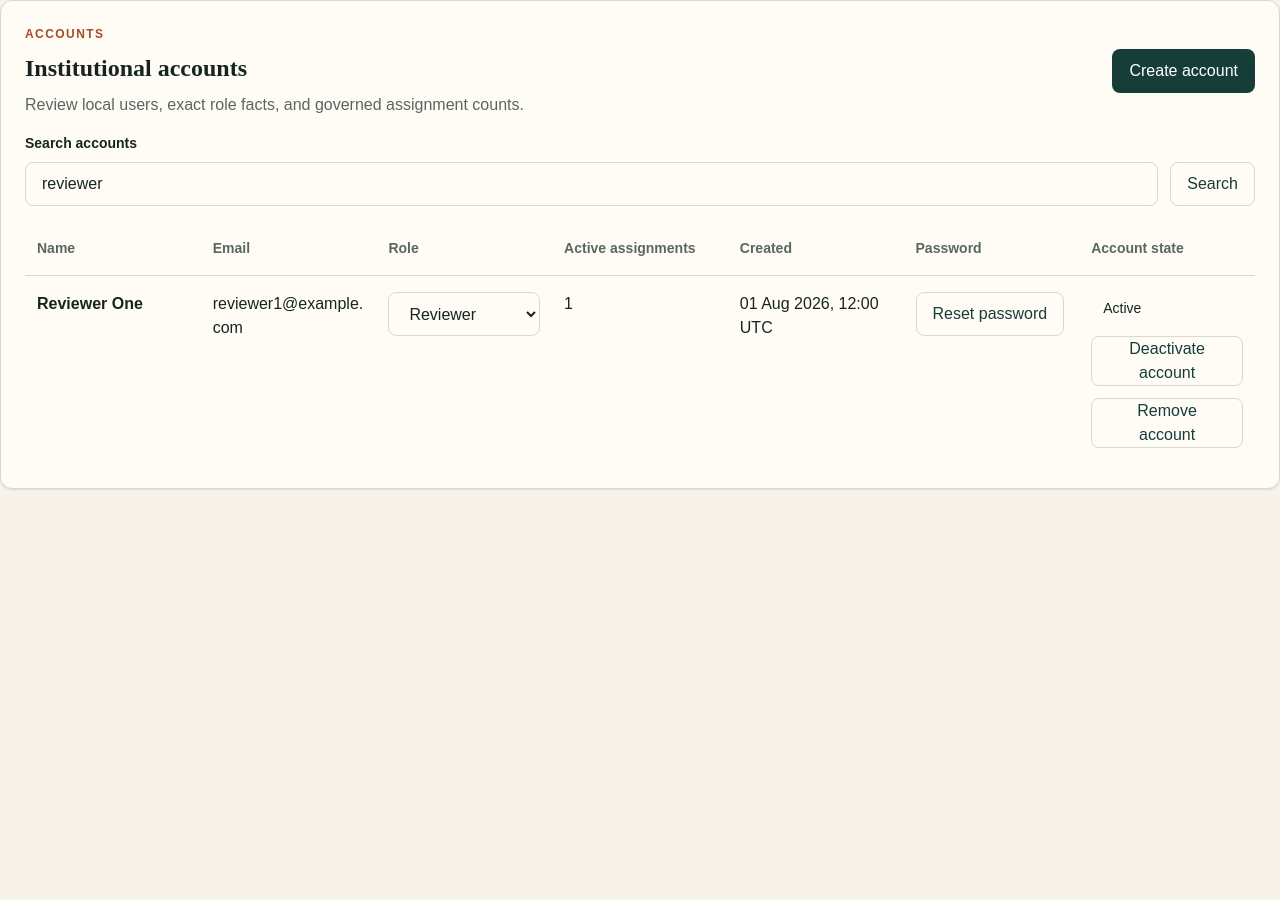
it: AccountsSection › uses localUserSchema validation with an error summary and focus
Click the button "Create account" at (1184, 71), box [1112,49,1255,93]
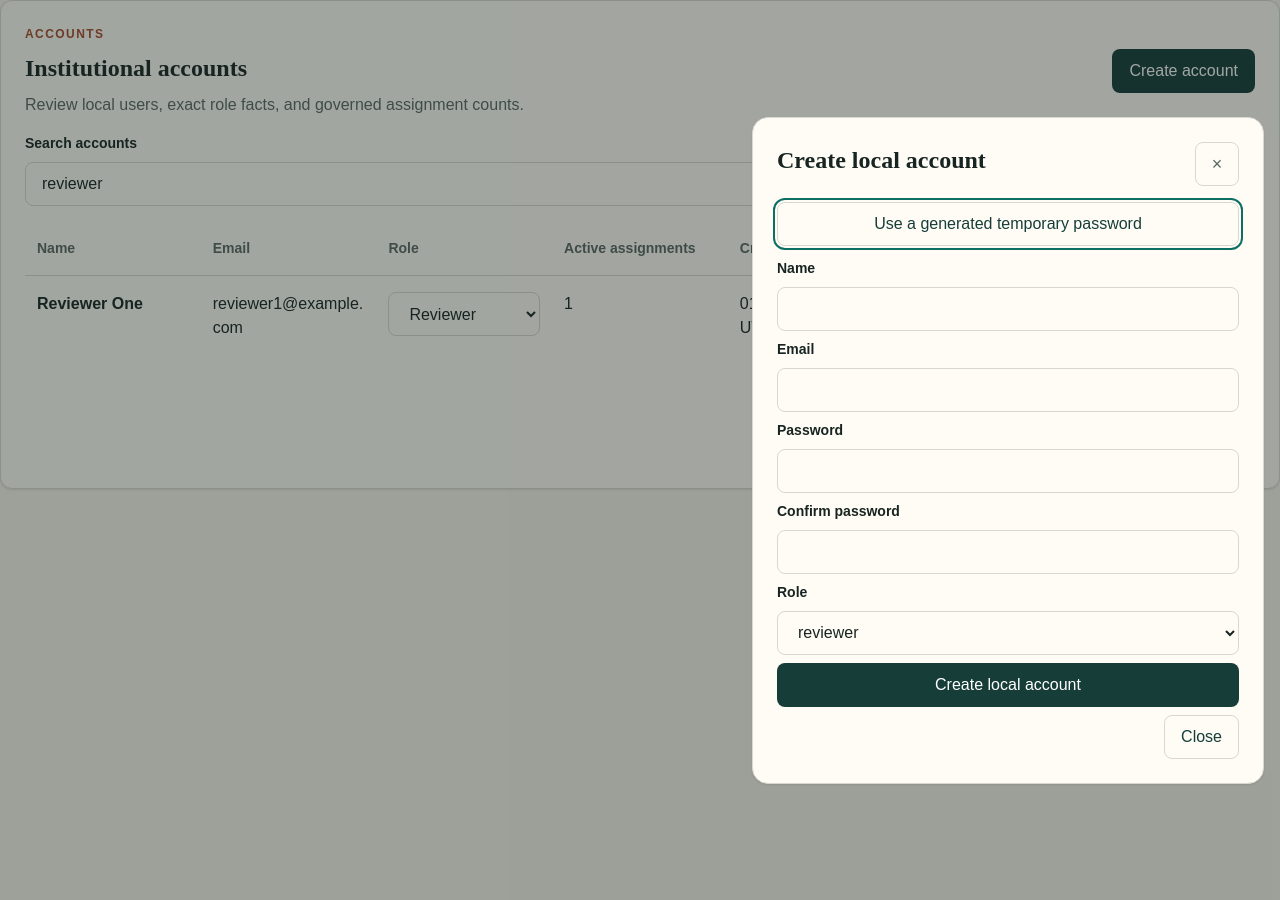
Click the button "Create local account" at (1008, 684), box [777,662,1239,706]
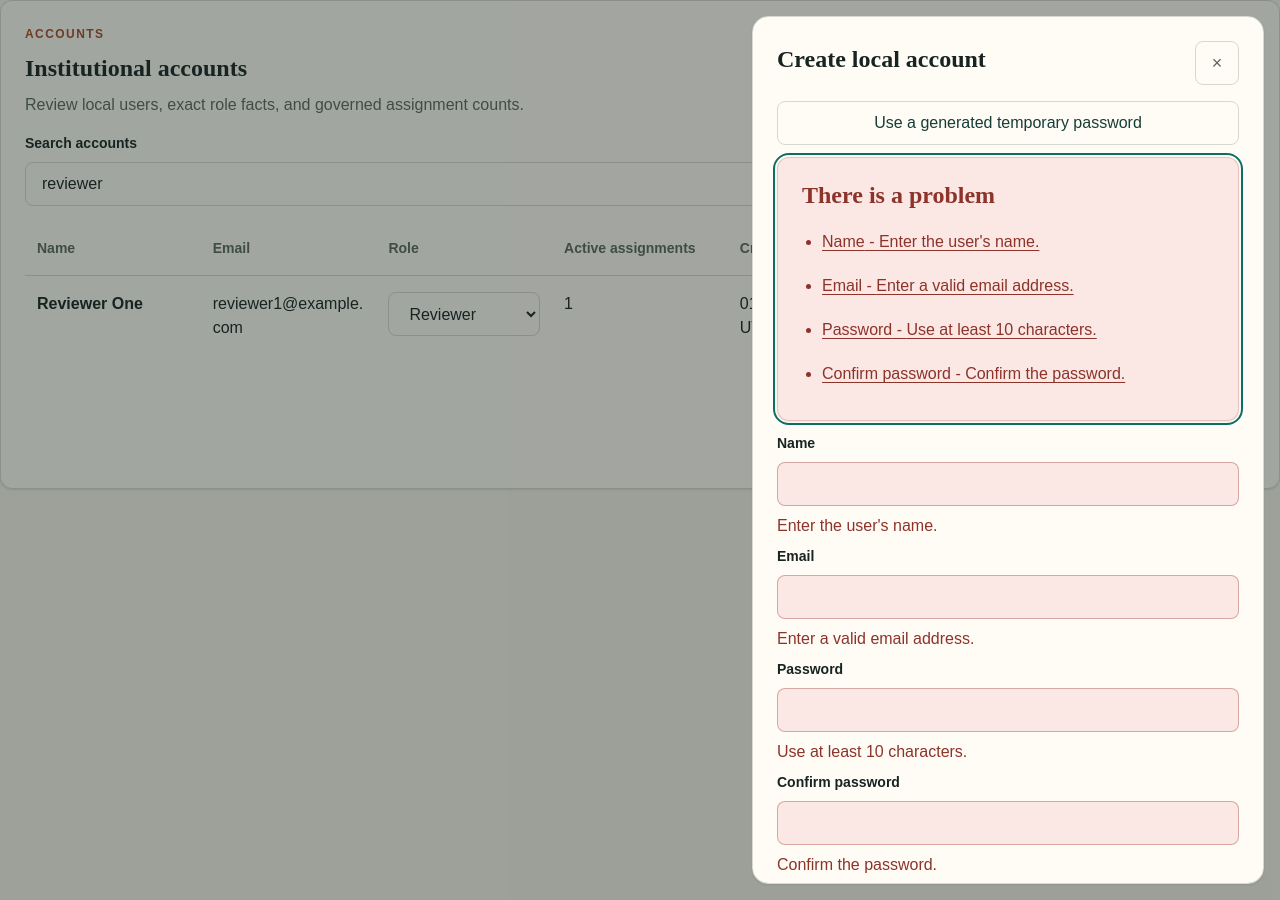
Now the link "Name - Enter the user's name." is shown, box [822,233,1039,250]
Now the link "Email - Enter a valid email address." is shown, box [822,277,1074,294]
Now the link "Password - Use at least 10 characters." is shown, box [822,321,1097,338]
